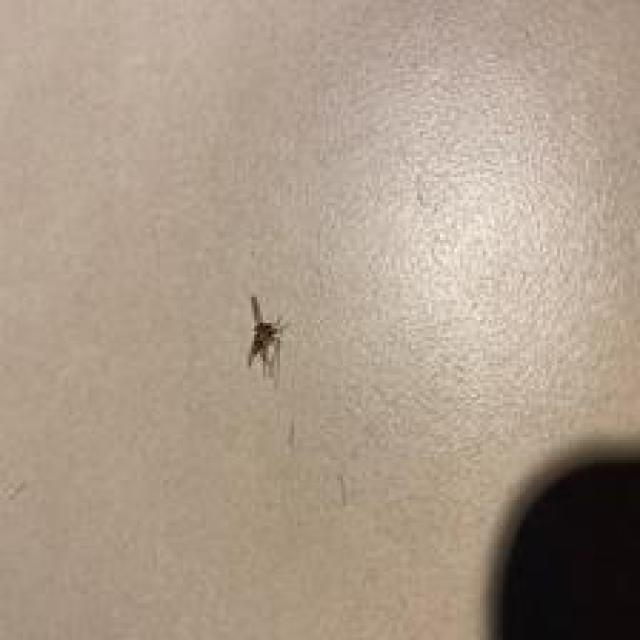Culex: (244, 293, 287, 378)
